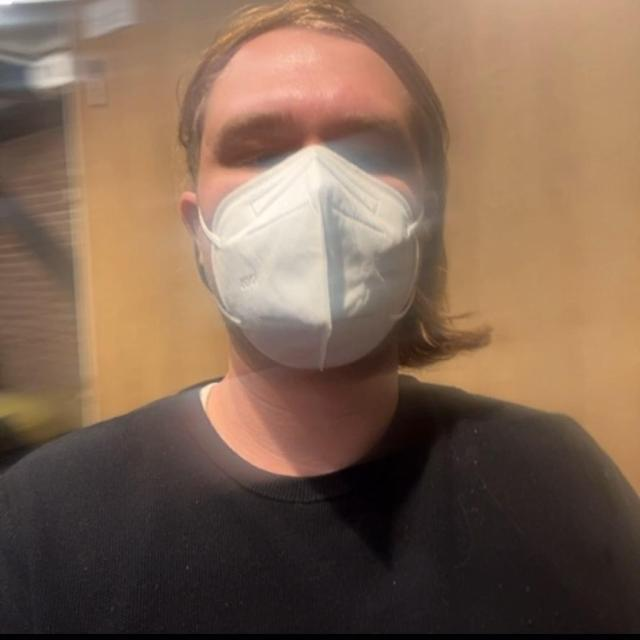no hat: (140, 0, 490, 399)
